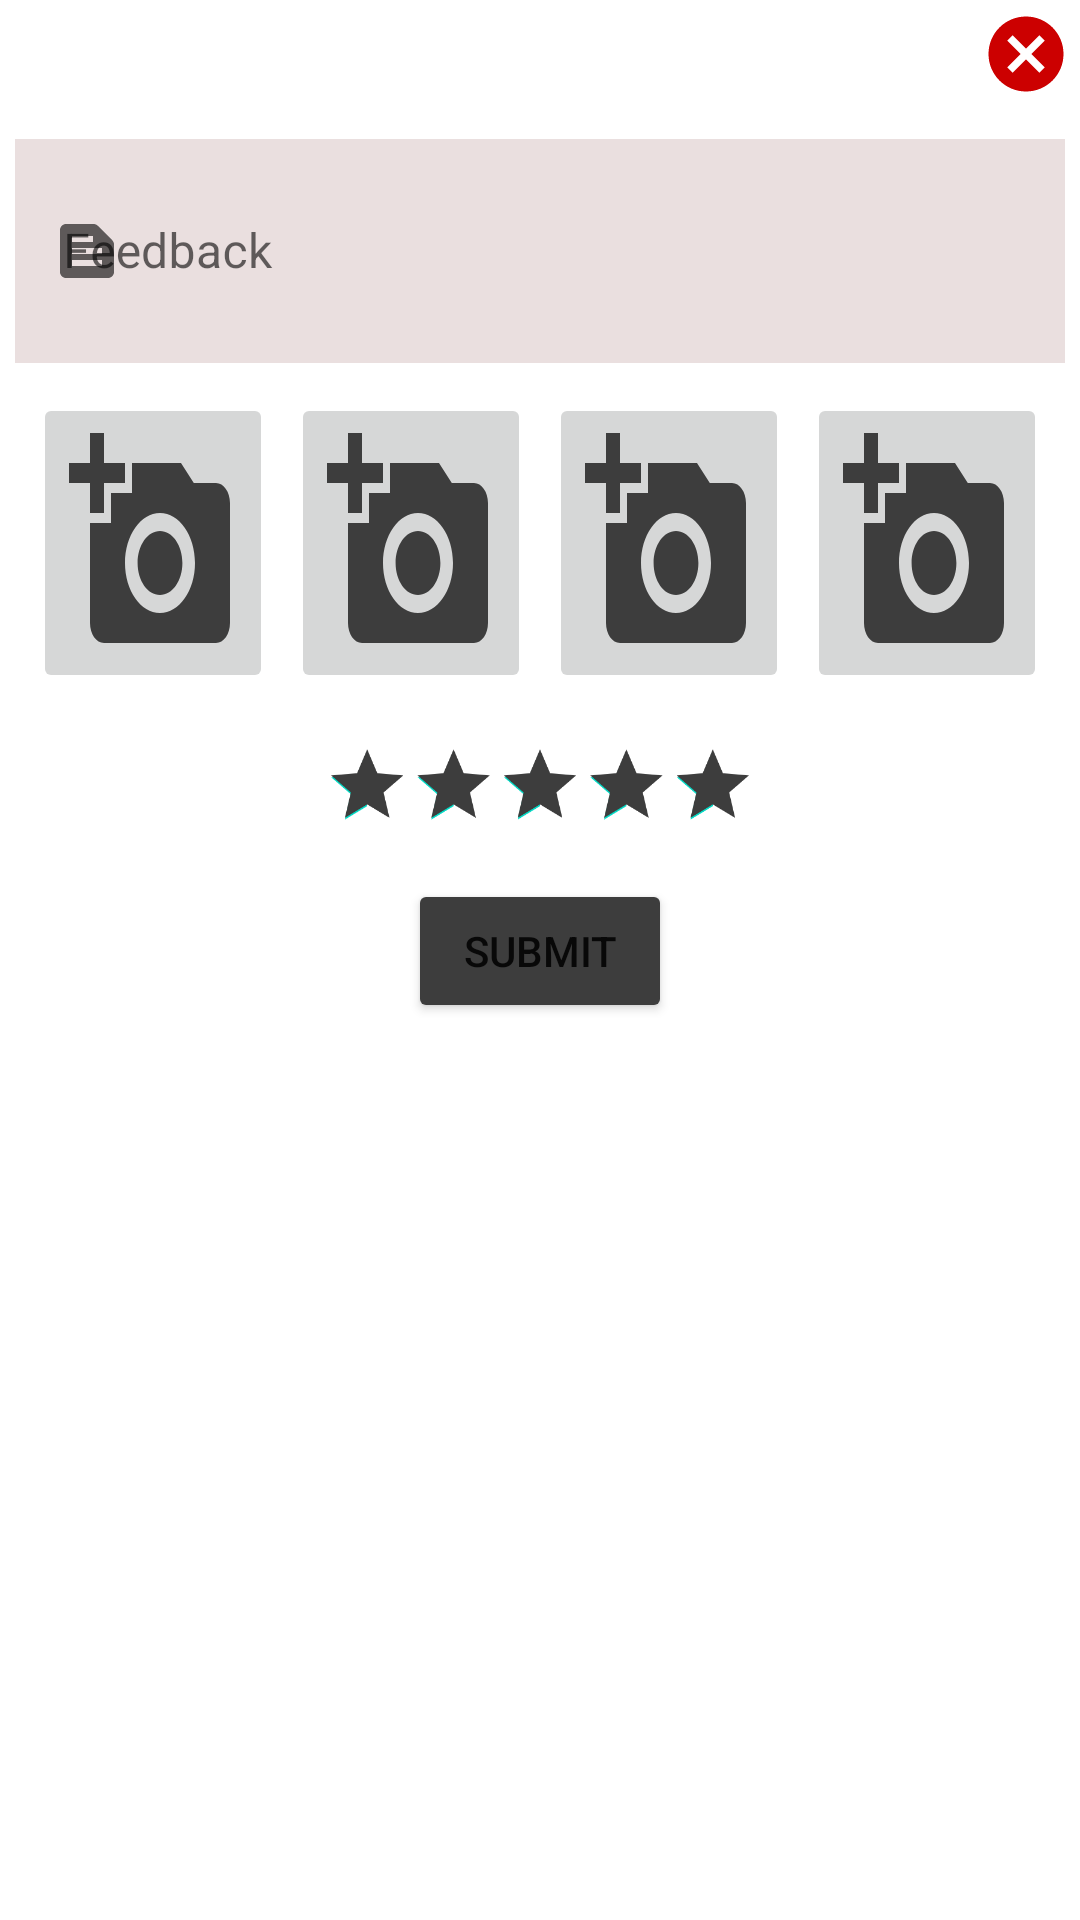

Locate icon controls on the screen. Image size 1080x1920, boxes as box(x1, y1, x2, y2).
add photo: box(45, 411, 261, 675), box(303, 411, 519, 675), box(561, 411, 777, 675), box(819, 411, 1035, 675)
cancel: box(988, 16, 1064, 92)
